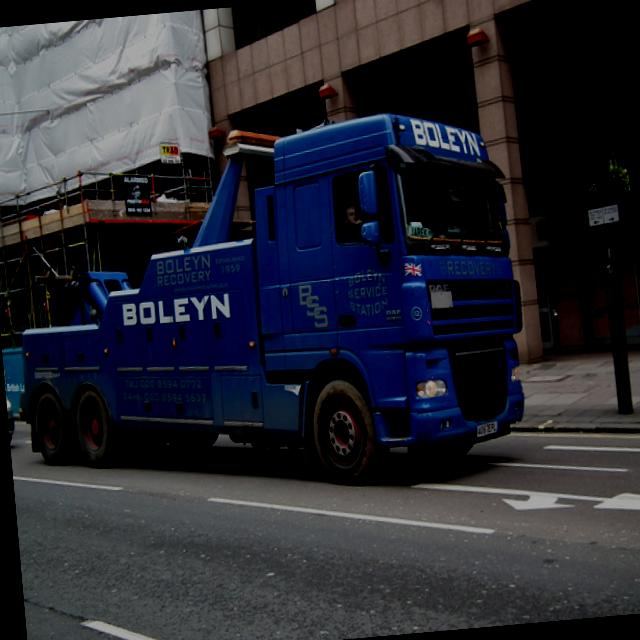Vehicle: (0, 106, 533, 506), (4, 385, 14, 446)
